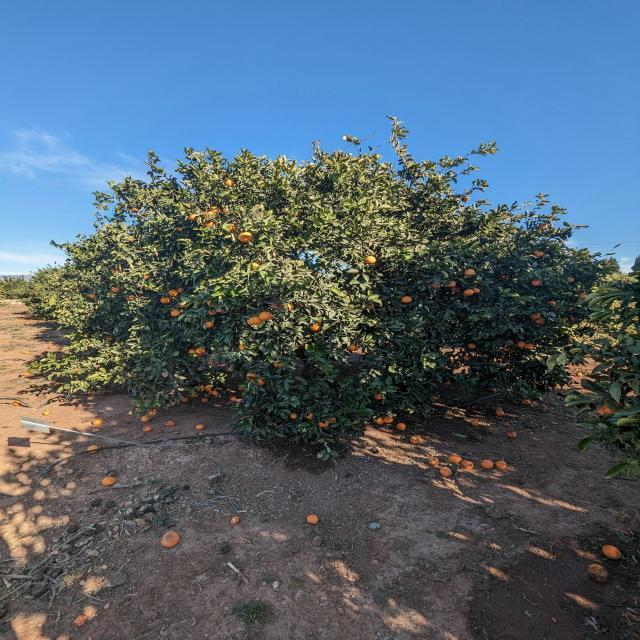Jeruk Sudah Matang: (597, 402, 613, 416), (239, 232, 253, 243), (259, 311, 273, 321), (250, 316, 263, 325), (245, 372, 258, 380), (274, 360, 286, 368), (224, 179, 235, 187), (365, 256, 376, 264), (318, 420, 329, 428), (310, 323, 320, 331), (464, 268, 474, 276), (383, 416, 393, 424), (396, 422, 406, 430), (326, 416, 336, 424), (430, 281, 441, 288), (348, 344, 359, 351), (147, 409, 158, 416), (228, 224, 237, 232), (282, 304, 294, 310), (531, 312, 540, 320), (188, 214, 198, 221), (204, 321, 214, 328), (402, 296, 412, 303), (375, 417, 385, 424), (305, 413, 316, 419), (142, 274, 152, 280), (160, 298, 170, 304), (169, 290, 179, 296), (171, 310, 181, 316), (196, 347, 206, 353), (464, 290, 474, 296), (531, 280, 541, 286), (534, 318, 544, 324), (524, 344, 536, 349), (466, 343, 476, 349), (374, 394, 384, 400), (495, 410, 505, 416), (522, 400, 532, 406), (180, 397, 190, 403), (518, 341, 526, 348), (204, 212, 213, 218), (112, 287, 121, 293), (251, 262, 260, 268), (472, 288, 481, 294), (204, 221, 214, 226), (210, 207, 220, 212), (179, 303, 189, 308), (206, 310, 216, 315), (547, 301, 557, 306), (462, 196, 470, 202), (448, 281, 456, 287), (290, 413, 298, 419), (230, 396, 238, 402), (142, 416, 150, 422), (213, 390, 220, 396), (238, 386, 245, 392), (112, 269, 120, 274), (216, 308, 224, 313), (539, 224, 547, 229), (471, 421, 479, 426), (205, 386, 213, 391), (178, 226, 184, 232), (246, 318, 252, 324), (536, 252, 542, 258), (74, 368, 80, 374), (188, 349, 195, 354), (201, 398, 208, 403), (131, 208, 139, 212), (580, 294, 588, 298), (256, 380, 264, 384), (222, 208, 228, 213), (207, 300, 212, 306), (239, 344, 244, 350), (464, 356, 469, 362), (208, 390, 213, 396), (568, 278, 575, 282), (89, 294, 95, 298), (178, 288, 184, 292), (197, 353, 203, 357), (22, 373, 30, 376), (74, 286, 78, 290), (194, 394, 198, 397)
